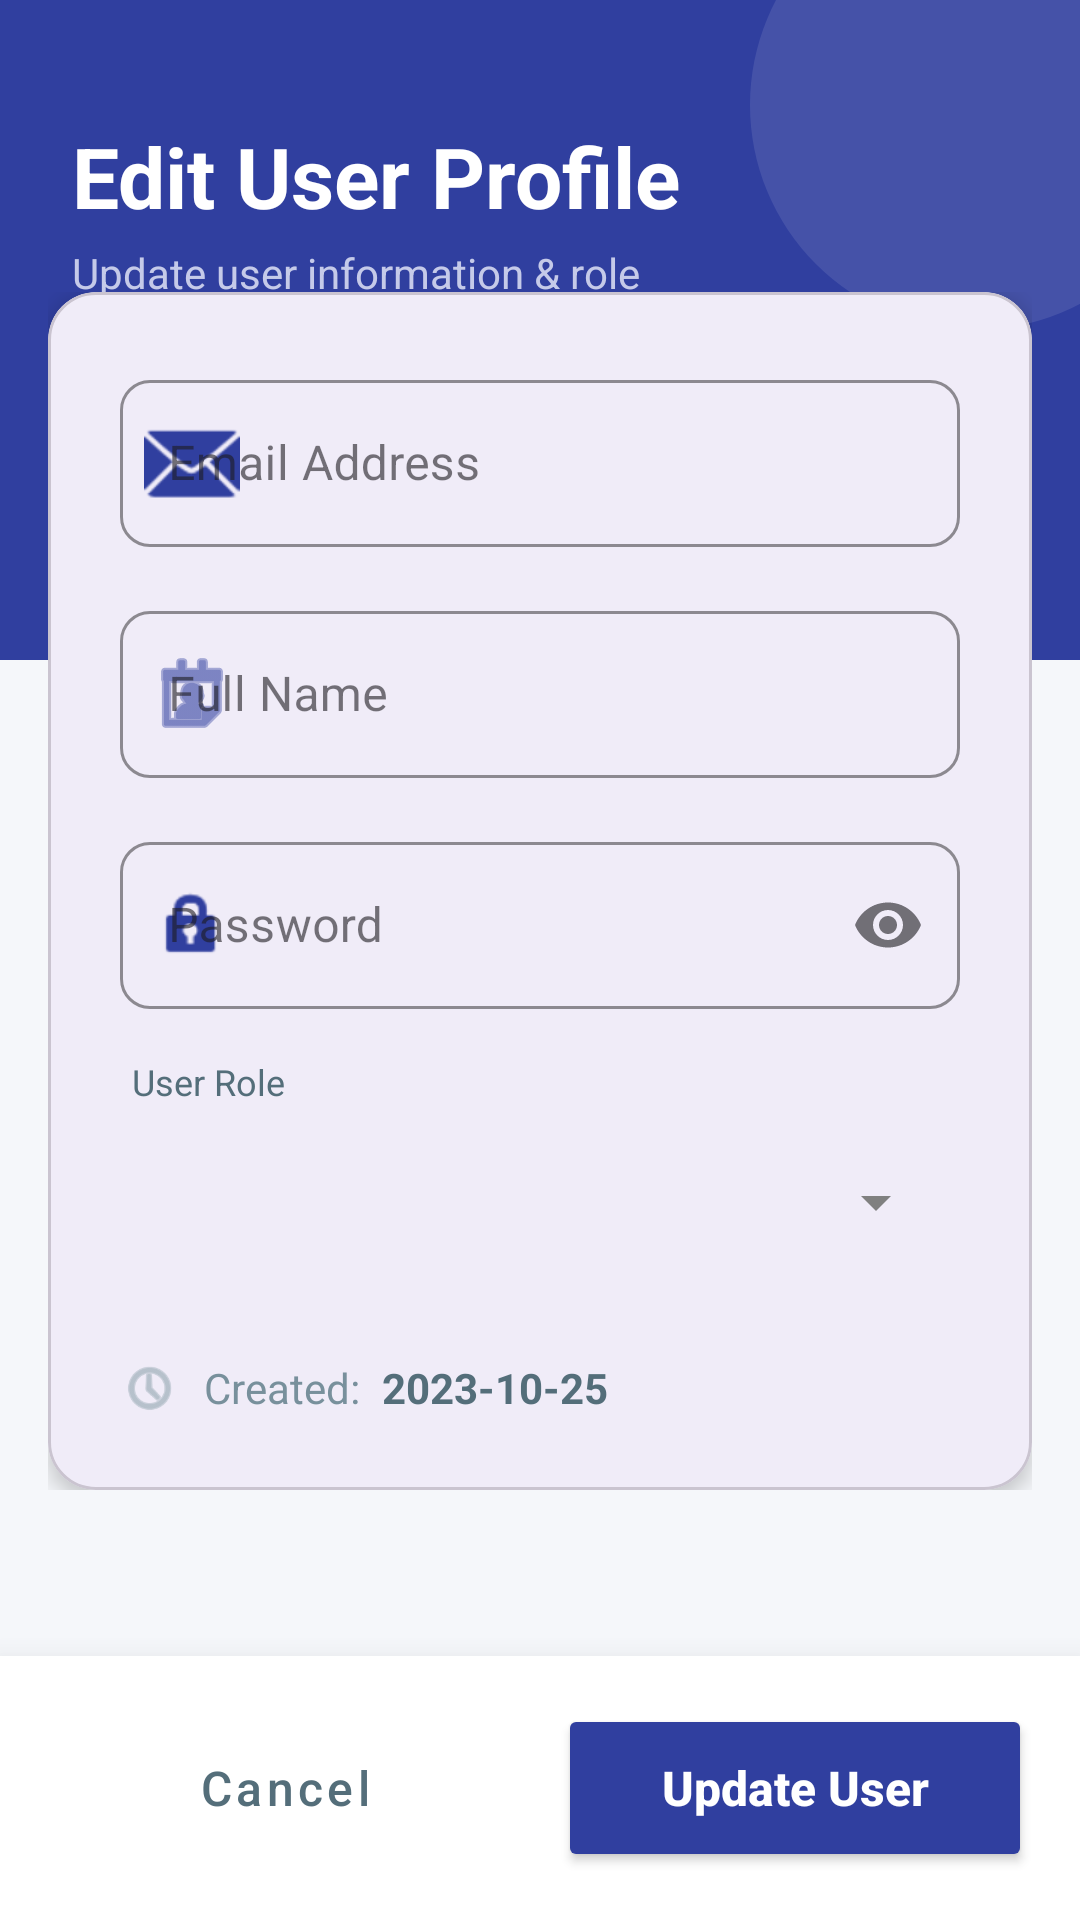

Screen size 1080 × 1920. Icon name, then its center in pixels as point (x, y):
recent history: point (149, 1388)
